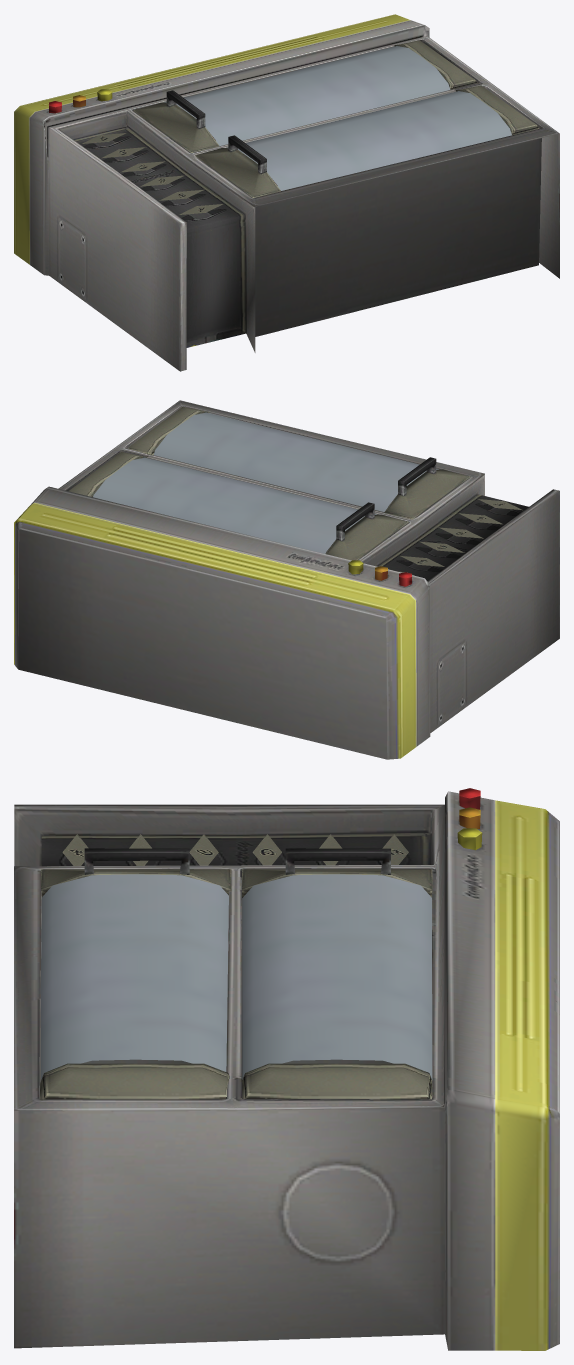
File: nt_2020_cup_warmer_yellow_LOD1.obj
3 views of the same model, one above another, from view 1: azimuth 30°, elevation 25°; view 2: azimuth 150°, elevation 25°; view 3: azimuth 270°, elevation 25° (orthographic). The views are drawn at different scales.
Parts seen in each view (by area): view 1: mtl_nt_2020_cup_warmer_yellow, glass_clear_mp_model; view 2: mtl_nt_2020_cup_warmer_yellow, glass_clear_mp_model; view 3: mtl_nt_2020_cup_warmer_yellow, glass_clear_mp_model.
Boxes of the visible parts, left/top/right/bottom form: mtl_nt_2020_cup_warmer_yellow: left=14, top=14, right=559, bottom=371; glass_clear_mp_model: left=164, top=46, right=511, bottom=190; mtl_nt_2020_cup_warmer_yellow: left=14, top=400, right=559, bottom=759; glass_clear_mp_model: left=93, top=412, right=438, bottom=553; mtl_nt_2020_cup_warmer_yellow: left=14, top=788, right=559, bottom=1350; glass_clear_mp_model: left=41, top=874, right=432, bottom=1080.
Bounding box in the file's own units: 73.01 × 31.16 × 54.72.
